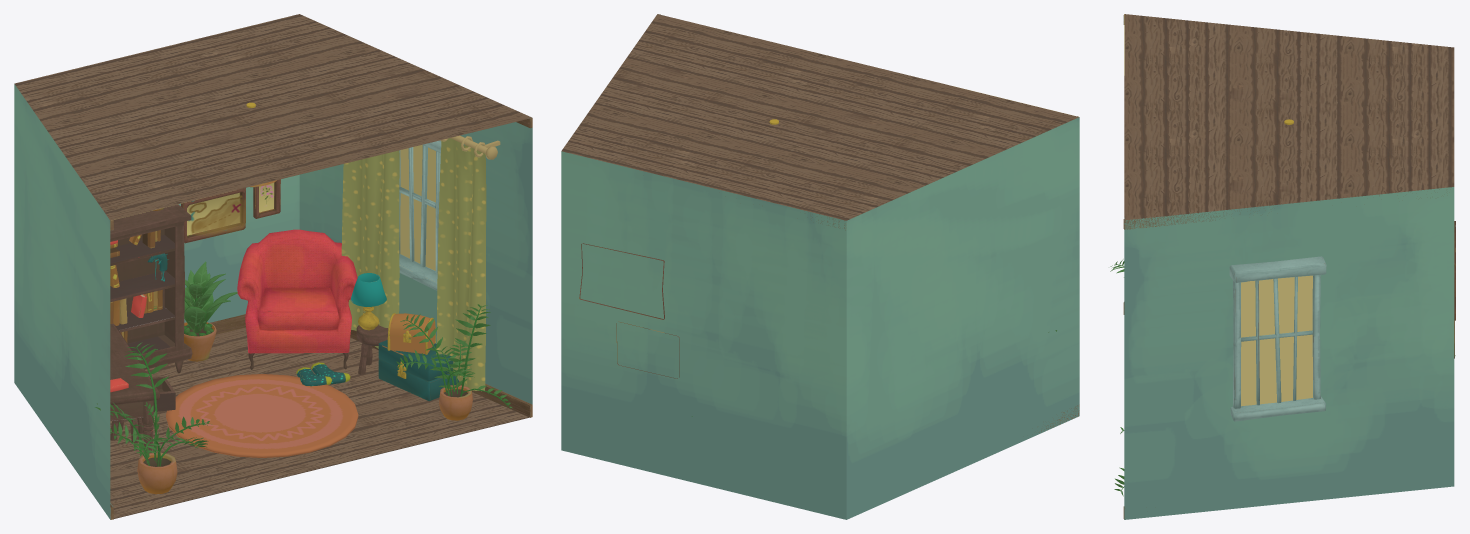
File: room_maru_bake.glb
The picture shows the model from 3 angles, left to right: view 1: azimuth 30°, elevation 25°; view 2: azimuth 150°, elevation 25°; view 3: azimuth 270°, elevation 25°; orthographic projection.
Parts seen in each view (by area): view 1: Cube.006, Cylinder.004, Cylinder, prop_book_03_inst_002, Cylinder.008, Cylinder.001, Snake Plant.003; view 2: Cube.006, prop_book_03_inst_002; view 3: Cube.006.
Boxes of the visible parts, <box> form: Cube.006: <box>14,14,532,519</box>; Cylinder.004: <box>166,135,500,457</box>; Cylinder: <box>110,204,388,452</box>; prop_book_03_inst_002: <box>110,102,458,401</box>; Cylinder.008: <box>95,342,211,494</box>; Cylinder.001: <box>396,304,512,420</box>; Snake Plant.003: <box>153,208,237,361</box>; Cube.006: <box>561,14,1079,519</box>; prop_book_03_inst_002: <box>579,119,778,378</box>; Cube.006: <box>1123,14,1454,519</box>.
Bounding box in the file's own units: 6.5 × 4.45 × 4.63.
Materials: 5 (5 with a texture image).
